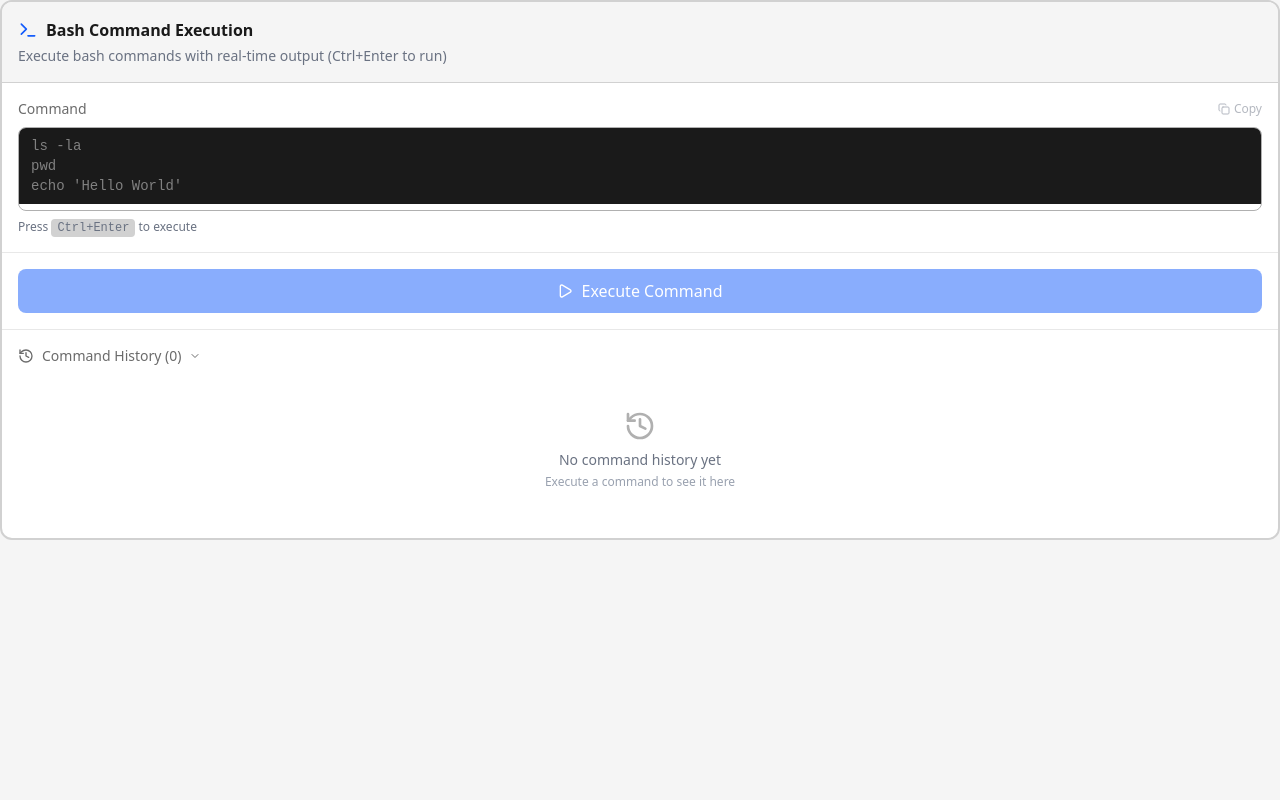
BashToolExecutor › Command Execution › should display stderr output for failed commands
Type "invalid_command" into the text box with test id "bash-command-input" at point(640, 166), box [19, 128, 1261, 204]
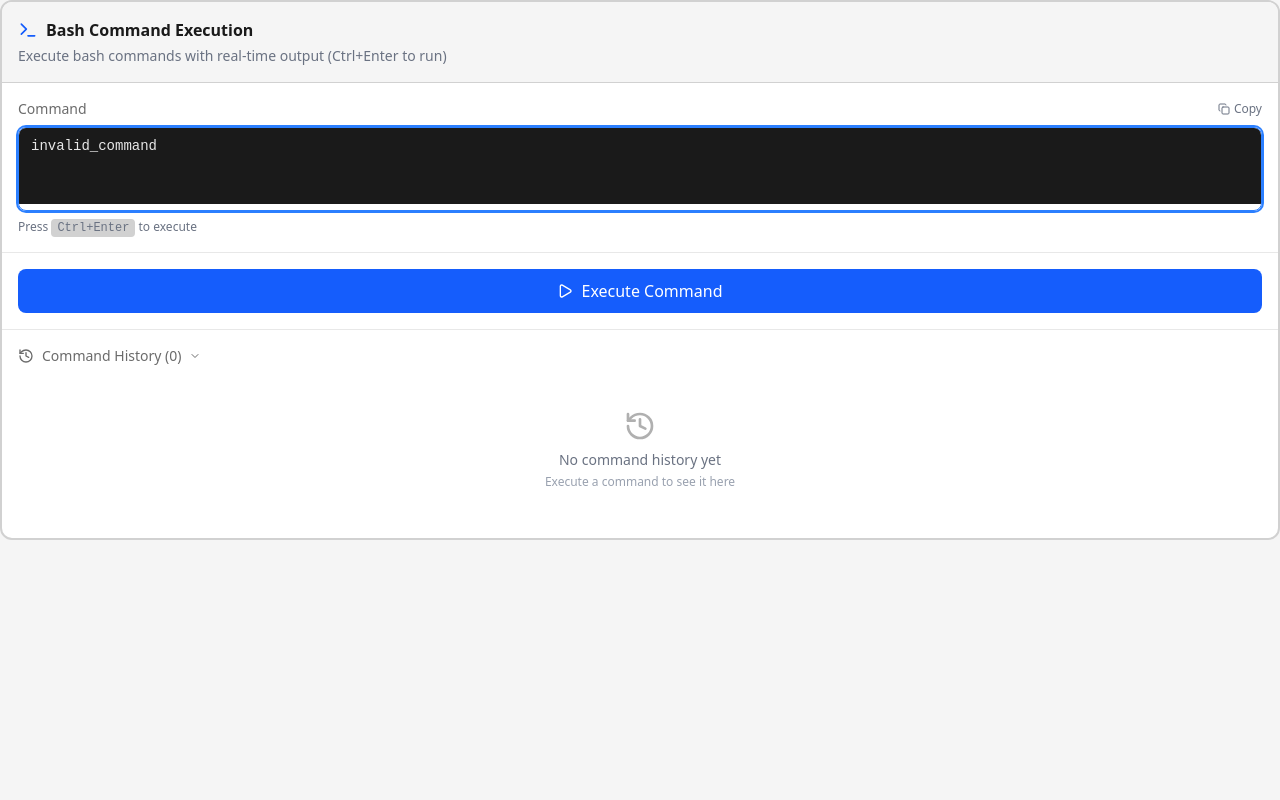
Click the button with test id "execute-bash-button" at point(640, 291), box [18, 269, 1262, 313]
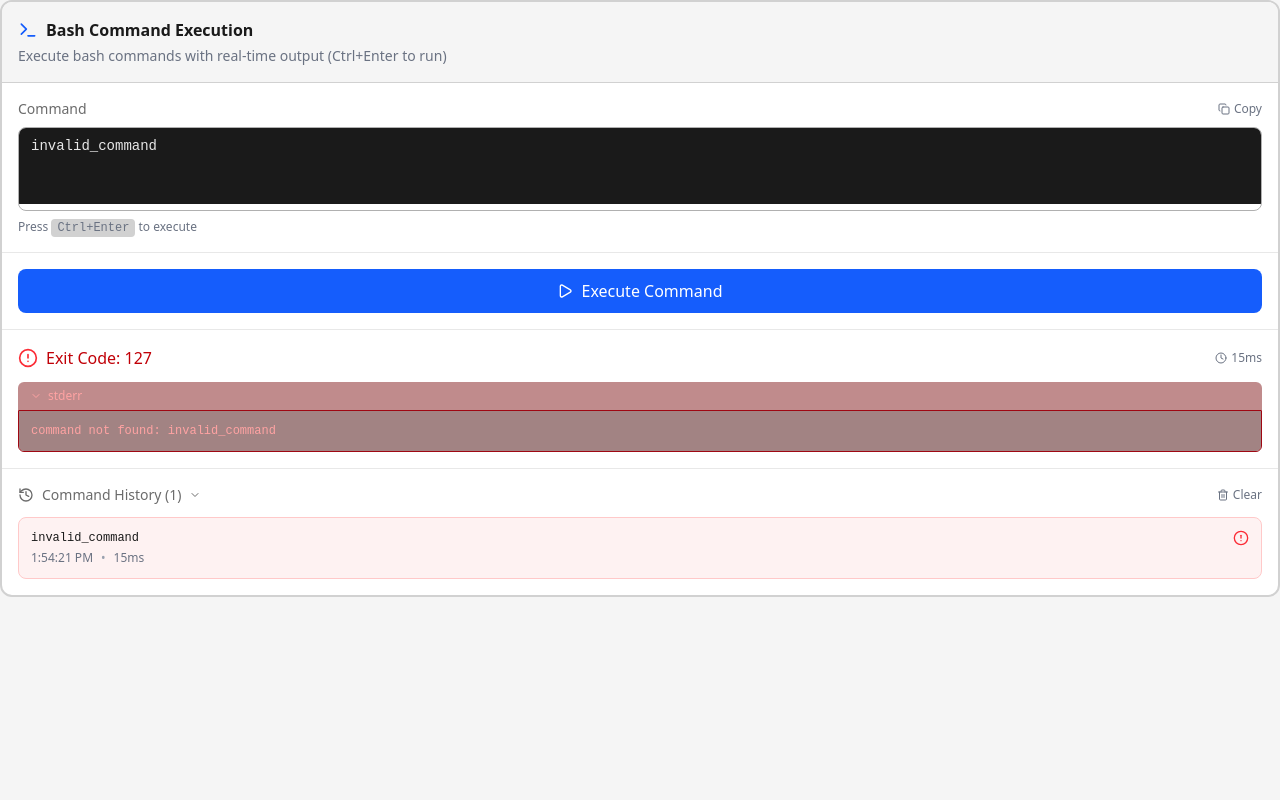
Expected: the text "Exit Code: 127" is shown, [46, 346, 152, 370]
Expected: the text "command not found: invalid_command" is shown, [19, 411, 1261, 451]
